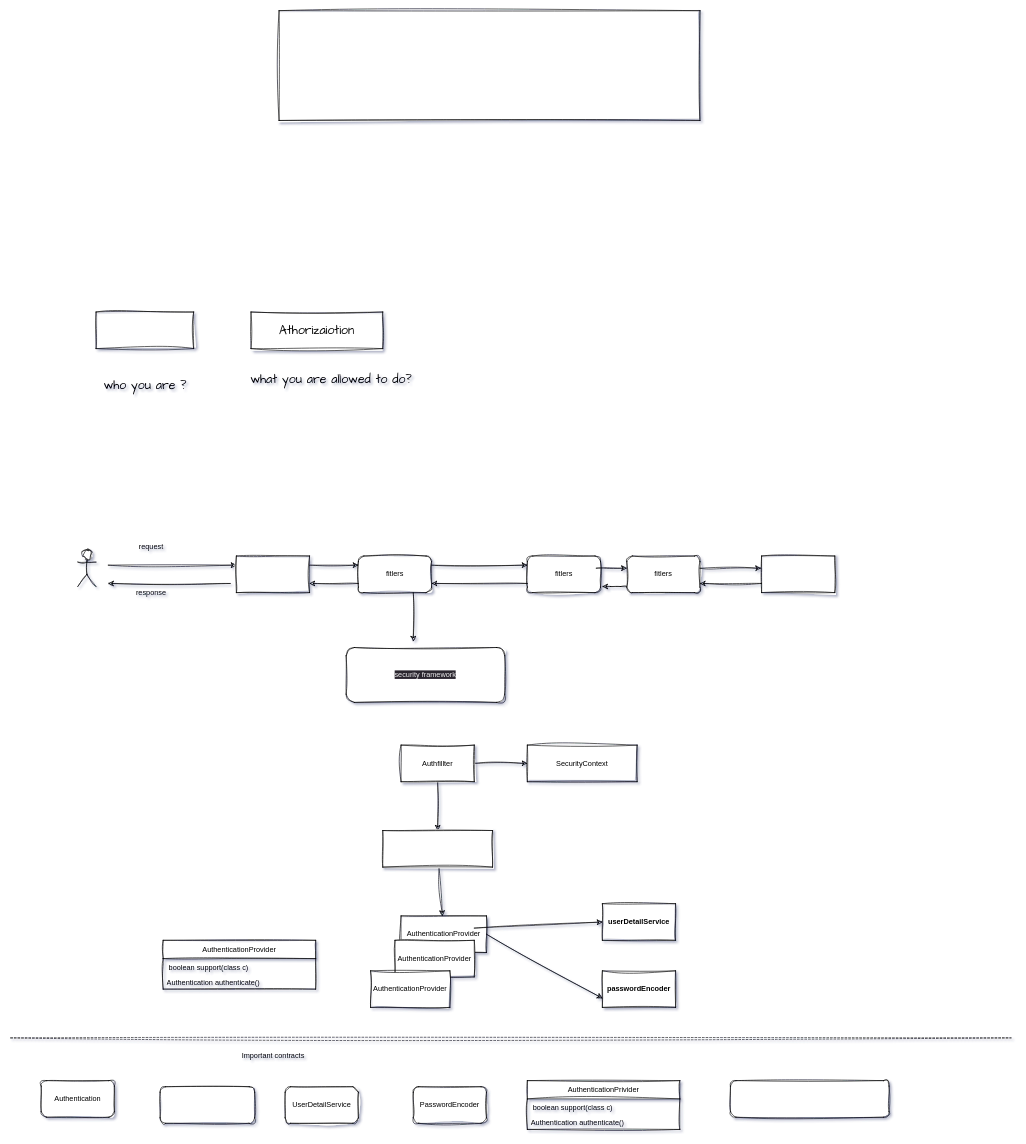
This 1026x1144 diagram has some shape labels left out. Each missing label, with the centre of its shape:
"Actor" belongs at [86,568].
"Athentication" belongs at [144,330].
"AuthenticaitonManager" belongs at [437,848].
"AuthenticationManager" belongs at [207,1104].
"controller" belongs at [798,574].
"sevelet discpacture" belongs at [273,574].
"Sring security" belongs at [489,65].
"WebSecurityConfigurerAdapter" belongs at [809,1098].
